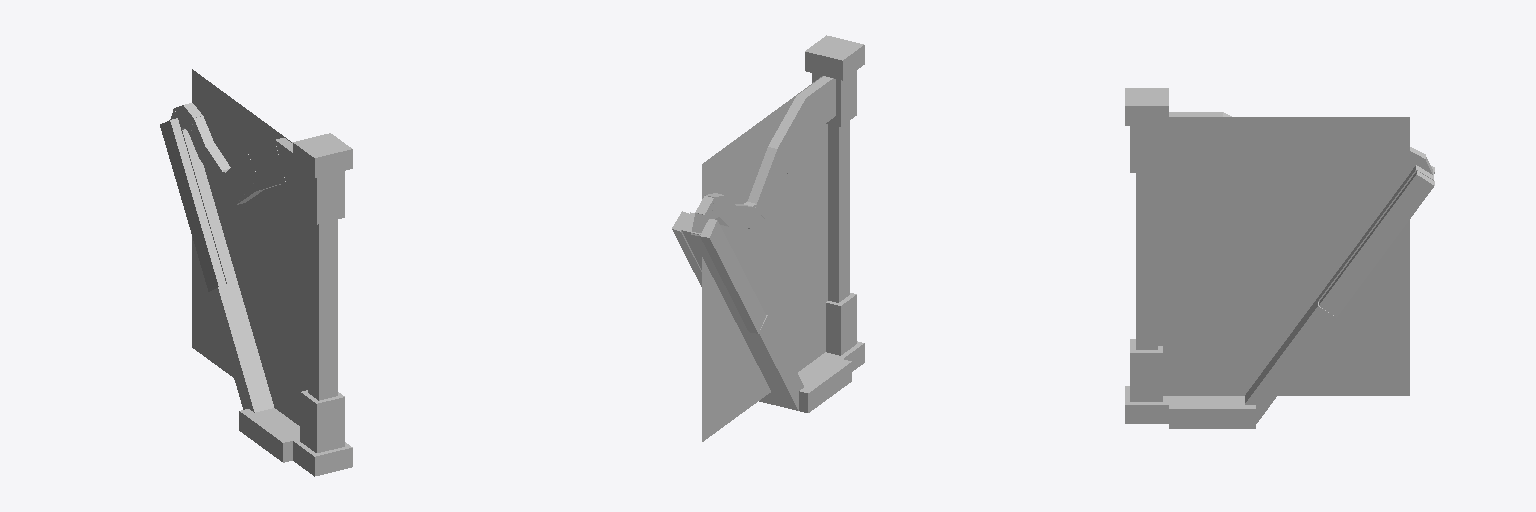
Rendered from 1502_harp.obj.
3 views of the same model, side by side, from view 1: azimuth 30°, elevation 25°; view 2: azimuth 150°, elevation 25°; view 3: azimuth 270°, elevation 25° (orthographic).
Parts seen in each view (by area): view 1: strings, Shape1, Shape19, Shape21, Shape4, Shape18, Shape3, Shape7, Shape20, Shape6, Shape9, Shape13 (+3 smaller); view 2: strings, Shape1, Shape19, Shape21, Shape18, Shape7, Shape9, Shape4, Shape13, Shape22, Shape20, Shape3 (+1 smaller); view 3: strings, Shape5, Shape1, Shape19, Shape18, Shape4, Shape7, Shape3, Shape6, Shape20.
Boxes of the visible parts, <box> form: strings: <box>192,69,307,425</box>; Shape1: <box>308,219,337,400</box>; Shape19: <box>209,283,273,412</box>; Shape21: <box>160,118,226,291</box>; Shape4: <box>300,390,344,452</box>; Shape18: <box>239,408,299,462</box>; Shape3: <box>300,168,344,224</box>; Shape7: <box>293,133,352,177</box>; Shape20: <box>182,129,237,284</box>; Shape6: <box>293,439,352,476</box>; Shape9: <box>246,140,285,190</box>; Shape13: <box>224,149,257,204</box>; strings: <box>702,76,827,441</box>; Shape1: <box>828,121,849,302</box>; Shape19: <box>739,315,803,410</box>; Shape21: <box>700,219,765,333</box>; Shape18: <box>759,354,851,412</box>; Shape7: <box>805,35,864,80</box>; Shape9: <box>768,96,816,174</box>; Shape4: <box>826,293,856,355</box>; Shape13: <box>747,147,788,219</box>; Shape22: <box>797,76,835,131</box>; Shape20: <box>682,212,746,329</box>; Shape3: <box>812,70,856,126</box>; strings: <box>1158,117,1409,395</box>; Shape5: <box>1319,171,1434,317</box>; Shape1: <box>1136,173,1157,349</box>; Shape19: <box>1245,298,1335,423</box>; Shape18: <box>1169,396,1255,428</box>; Shape4: <box>1130,339,1162,401</box>; Shape7: <box>1125,88,1168,125</box>; Shape3: <box>1130,126,1162,172</box>; Shape6: <box>1125,386,1168,423</box>; Shape20: <box>1318,165,1433,301</box>.
Size of the model in its own units: 0.375 by 2 by 1.77.